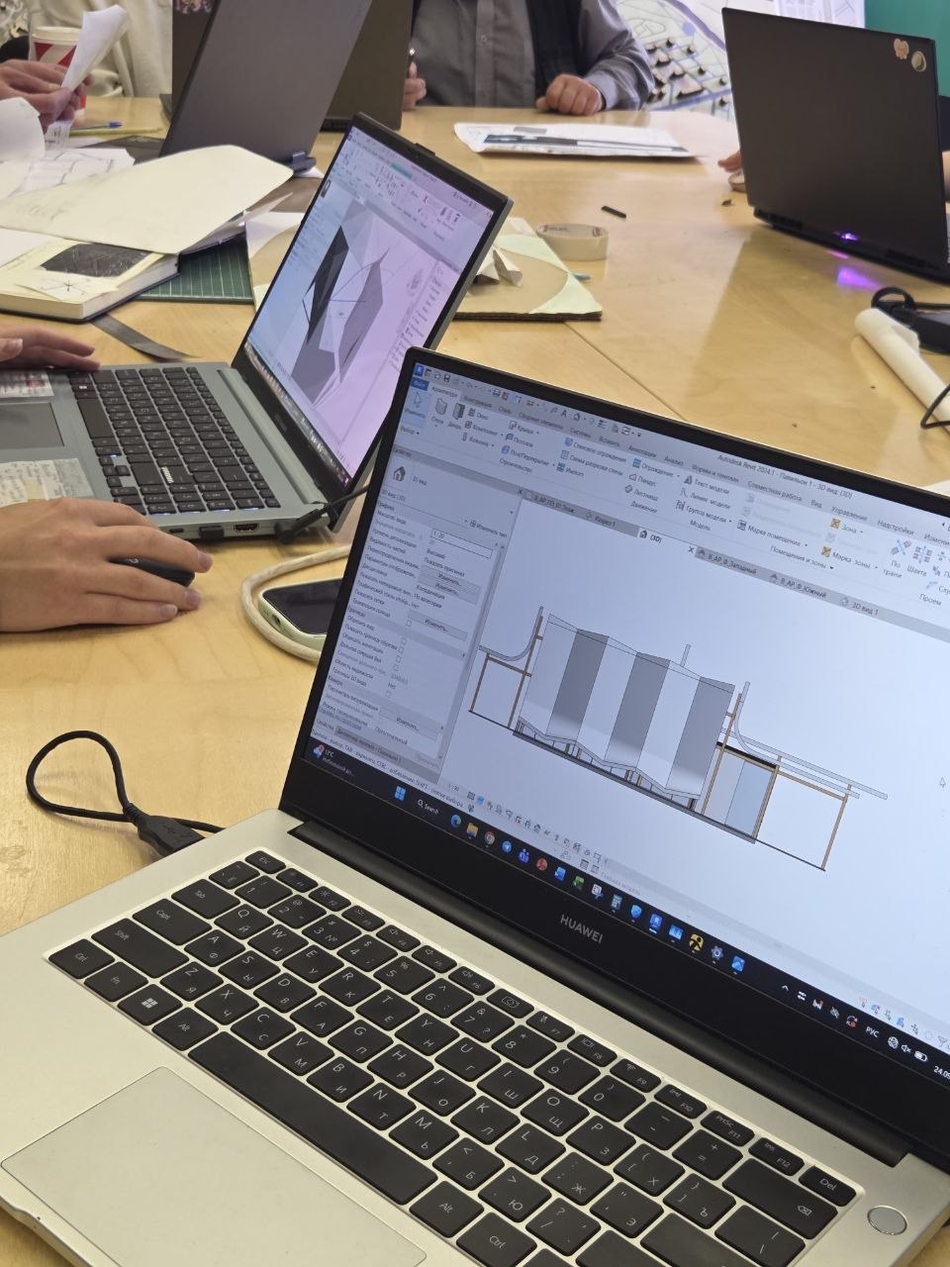cell phone: (258, 577, 344, 648)
laptop: (1, 345, 949, 1264), (1, 110, 515, 544), (721, 6, 949, 283), (76, 1, 374, 173), (159, 1, 414, 134)
